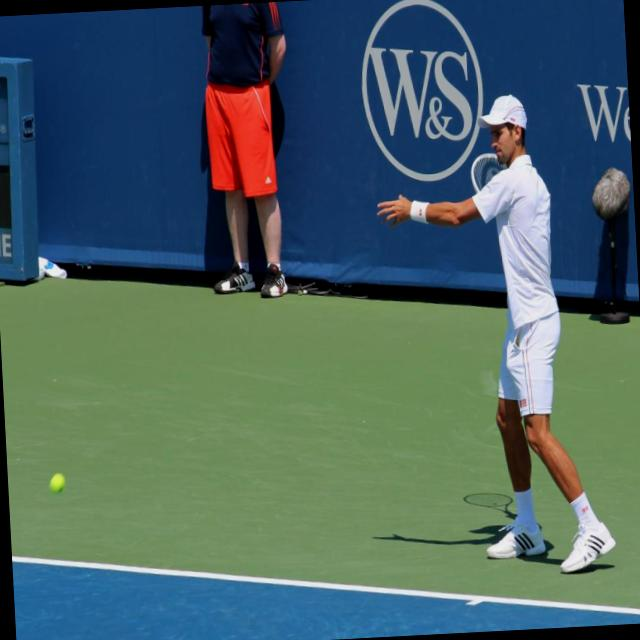Tennis Ball: (49, 472, 66, 493)
